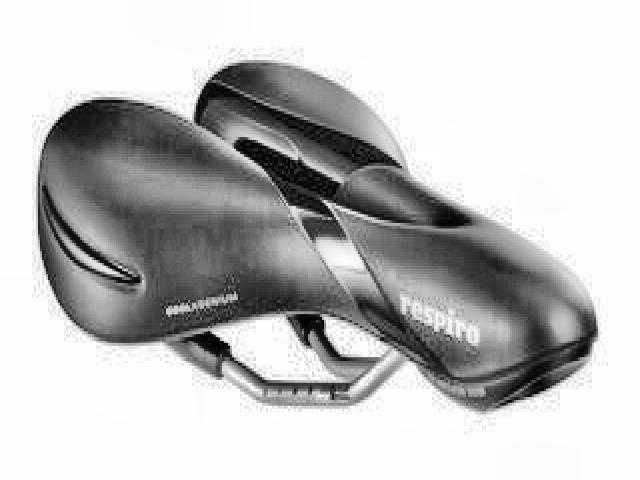saddle: (34, 56, 602, 430)
